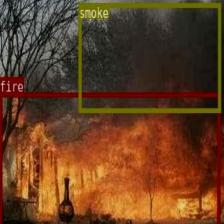fire: (0, 92, 220, 224)
smoke: (78, 2, 221, 112)
